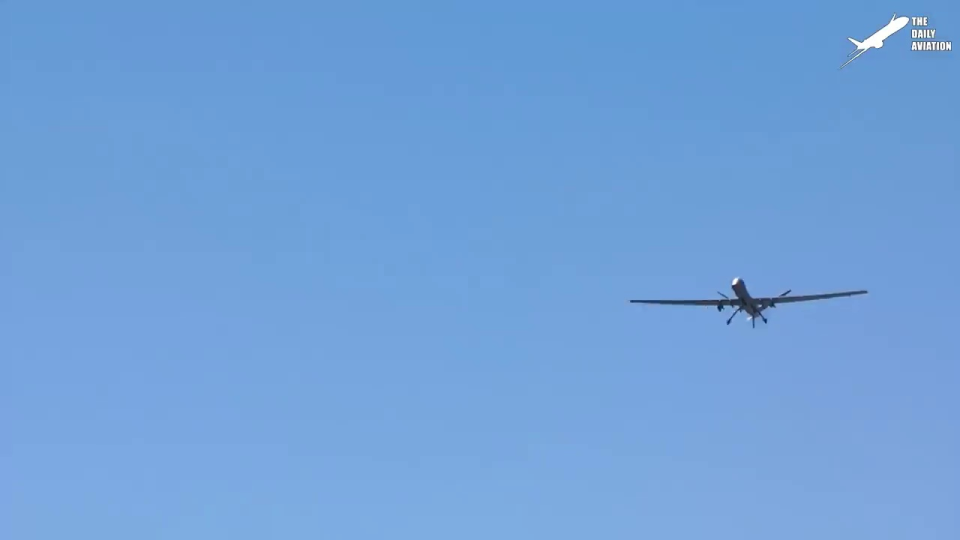military drone: (629, 276, 869, 328)
